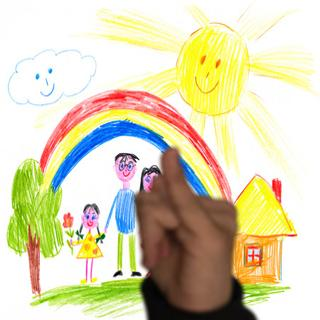HAVE: (122, 144, 253, 314)
